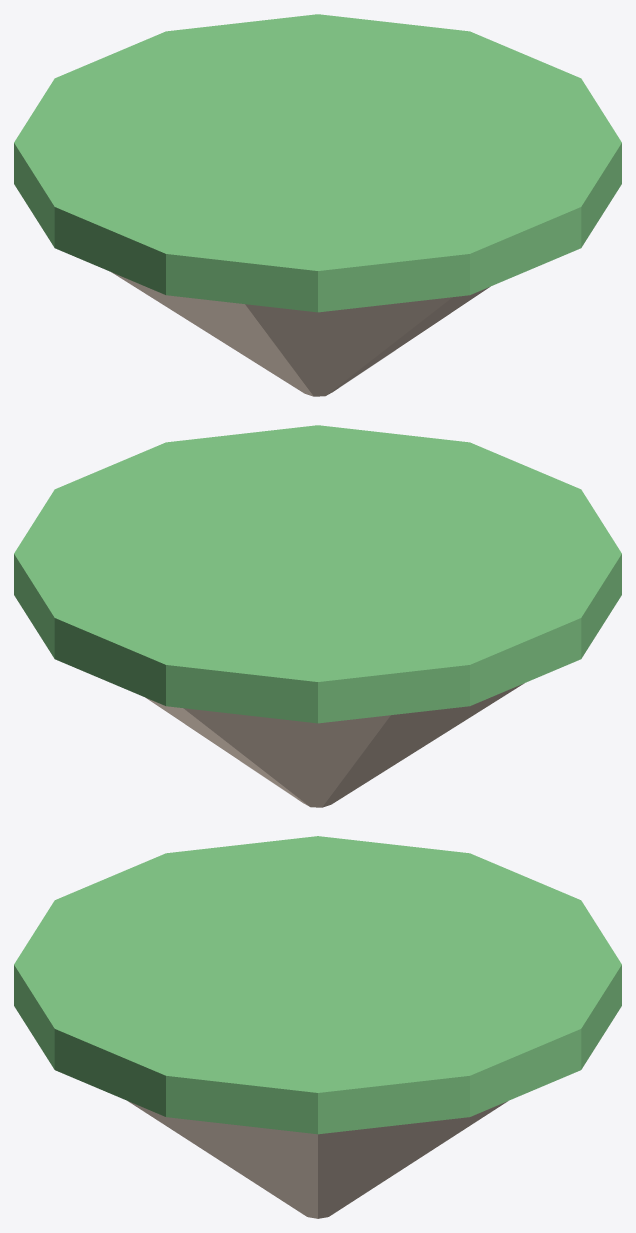
Rendered from distant_island.glb.
3 views of the same model, one above another, from view 1: azimuth 30°, elevation 25°; view 2: azimuth 150°, elevation 25°; view 3: azimuth 270°, elevation 25° (orthographic).
Parts seen in each view (by area): view 1: Cylinder, Cone; view 2: Cylinder, Cone; view 3: Cylinder, Cone.
Boxes of the visible parts, x1=… form: Cylinder: x1=14, y1=14, x2=621, y2=312; Cone: x1=111, y1=272, x2=490, y2=396; Cylinder: x1=14, y1=425, x2=621, y2=723; Cone: x1=145, y1=683, x2=524, y2=807; Cylinder: x1=14, y1=836, x2=621, y2=1134; Cone: x1=128, y1=1101, x2=507, y2=1218.
Bounding box in the file's own units: 8 × 3.6 × 8.
